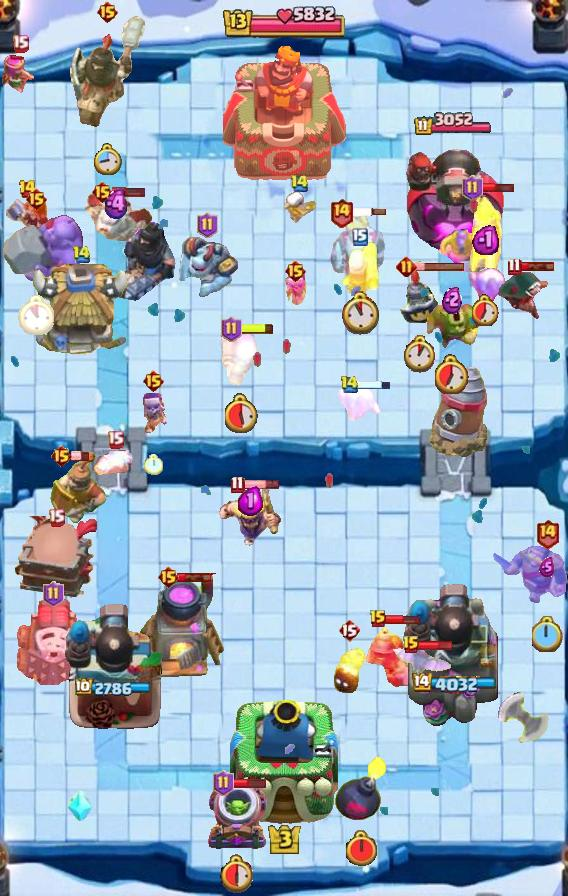archer: (0, 54, 46, 98)
axe: (492, 692, 550, 754)
bandit: (495, 272, 551, 320)
bar: (414, 261, 466, 272), (239, 322, 275, 335), (480, 181, 515, 194), (232, 777, 267, 789), (243, 479, 280, 490), (385, 614, 421, 625), (112, 186, 145, 198), (418, 640, 453, 651), (177, 572, 212, 583), (356, 379, 391, 390), (520, 261, 555, 272), (351, 207, 387, 217), (71, 451, 90, 462)
bar-level: (535, 518, 560, 549), (329, 197, 354, 228), (157, 565, 180, 589), (50, 444, 73, 468), (142, 369, 165, 393), (284, 259, 307, 283), (25, 187, 48, 211), (91, 180, 114, 204), (96, 0, 119, 24), (213, 770, 234, 796), (43, 581, 64, 607), (221, 316, 242, 342), (197, 212, 218, 238), (462, 175, 483, 201), (338, 618, 360, 642), (396, 256, 417, 277), (18, 179, 37, 199), (340, 375, 359, 394), (72, 245, 91, 264), (290, 174, 309, 193), (402, 635, 420, 655), (369, 609, 387, 629), (48, 508, 65, 527), (107, 430, 124, 449), (12, 34, 29, 53), (352, 228, 368, 246), (230, 475, 245, 494), (507, 257, 522, 276)
barbarian-evolution: (217, 487, 283, 548)
bat-evolution: (392, 647, 454, 677)
bomb: (334, 754, 388, 822)
cannoneer-tower: (402, 579, 504, 731), (64, 601, 164, 731), (401, 138, 505, 256)
clock: (339, 291, 381, 335), (220, 853, 257, 893), (18, 295, 54, 335), (402, 335, 438, 373), (225, 393, 259, 433), (435, 354, 469, 394), (344, 830, 379, 868), (532, 616, 563, 652), (93, 143, 122, 175), (472, 294, 499, 326), (144, 454, 163, 475)
elite-barbarian: (438, 229, 487, 272)
elixir: (102, 188, 132, 220), (472, 223, 499, 255), (238, 486, 263, 516), (442, 285, 462, 314), (539, 557, 555, 577)
fire-spirit: (331, 646, 367, 696)
firecracker: (220, 326, 264, 388), (339, 239, 381, 297)
goblin-brawler: (422, 298, 482, 352)
guard: (399, 269, 441, 327)
ice-spirit-evolution: (335, 383, 385, 421), (466, 266, 516, 304)
ice-spirit-evolution-symbol: (68, 791, 94, 823)
king-tower: (223, 44, 346, 181), (230, 698, 338, 826)
king-tower-bar: (221, 3, 347, 43)
knight: (492, 545, 568, 604)
lava-pup: (94, 448, 136, 478)
mega-minion: (175, 233, 239, 299)
miner: (363, 624, 423, 692)
mortar-evolution: (206, 782, 270, 852)
musketeer: (466, 190, 504, 288)
royal-ghost: (329, 213, 385, 279)
royal-recruit: (50, 452, 108, 524)
skeleton: (282, 190, 316, 224)
skeleton-evolution: (137, 393, 169, 433), (281, 271, 309, 307)
tower-bar: (413, 112, 493, 137), (410, 673, 496, 695), (75, 678, 153, 698)
valkyrie: (5, 195, 49, 245)
